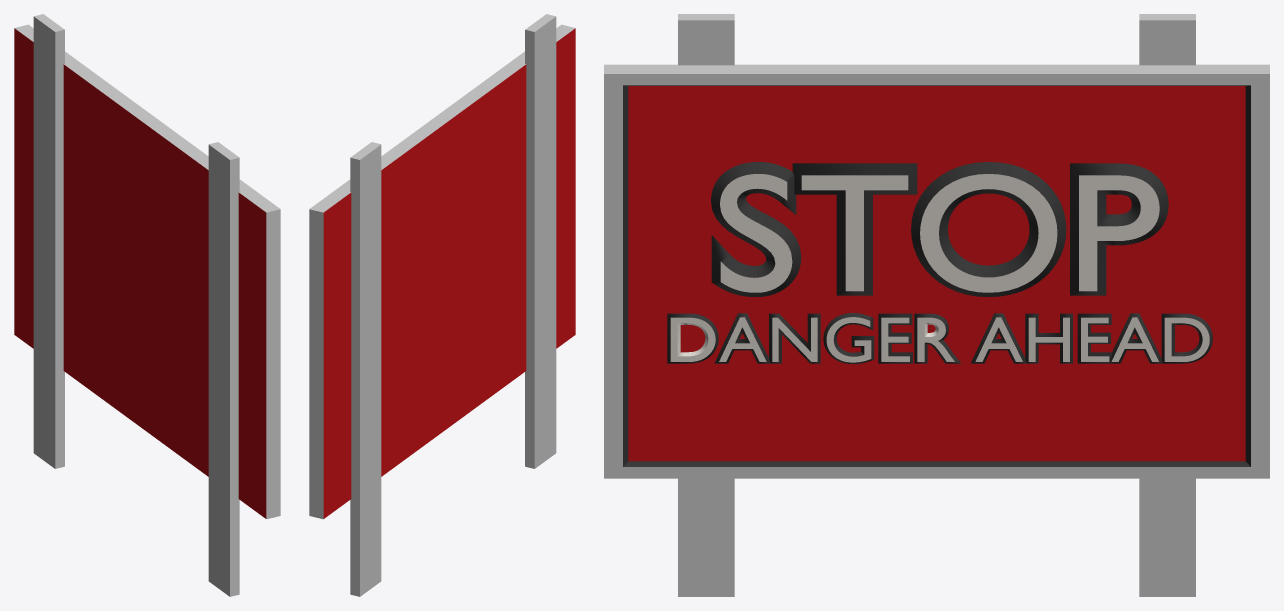
Rendered from Stop Sign obstacle.fbx.
The picture shows the model from 3 angles, left to right: view 1: azimuth 30°, elevation 25°; view 2: azimuth 150°, elevation 25°; view 3: azimuth 270°, elevation 25°; orthographic projection. The views are drawn at different scales.
Visible parts, largest first — view 1: Cube.001; view 2: Cube.001; view 3: Cube.001.
Part boxes in pixels (x1=…): Cube.001: x1=14, y1=14, x2=280, y2=596; Cube.001: x1=309, y1=14, x2=575, y2=596; Cube.001: x1=604, y1=14, x2=1269, y2=596.
Bounding box in the file's own units: 42.85 × 720 × 754.
